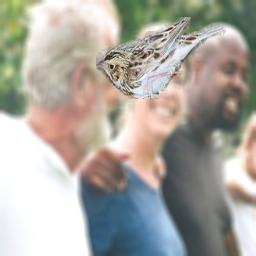Sparrow: (96, 17, 226, 99)
